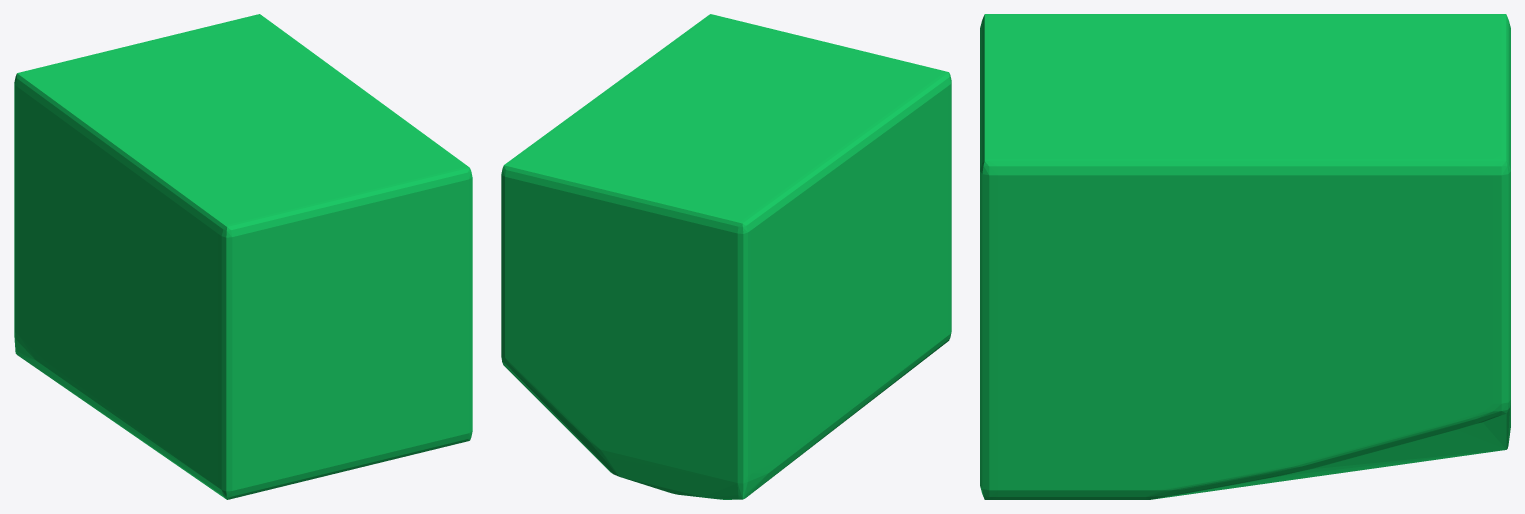
File: right_palm_part_23.obj
3 views of the same model, side by side, from view 1: azimuth 30°, elevation 25°; view 2: azimuth 150°, elevation 25°; view 3: azimuth 270°, elevation 25° (orthographic). The views are drawn at different scales.
Bounding box in the file's own units: 21.65 × 24.14 × 32.02.
